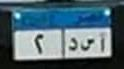2: (32, 33, 45, 56)
alif: (99, 32, 107, 53)
daal: (68, 37, 79, 52)
seen: (80, 37, 96, 52)
